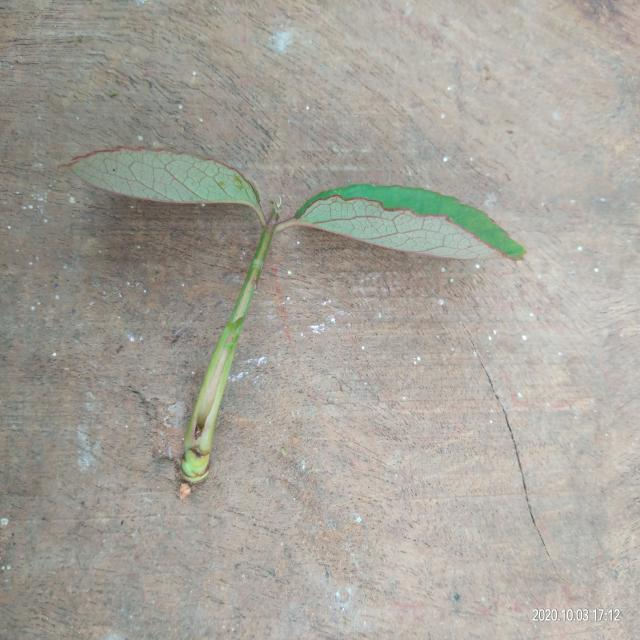rose: (68, 148, 525, 453)
